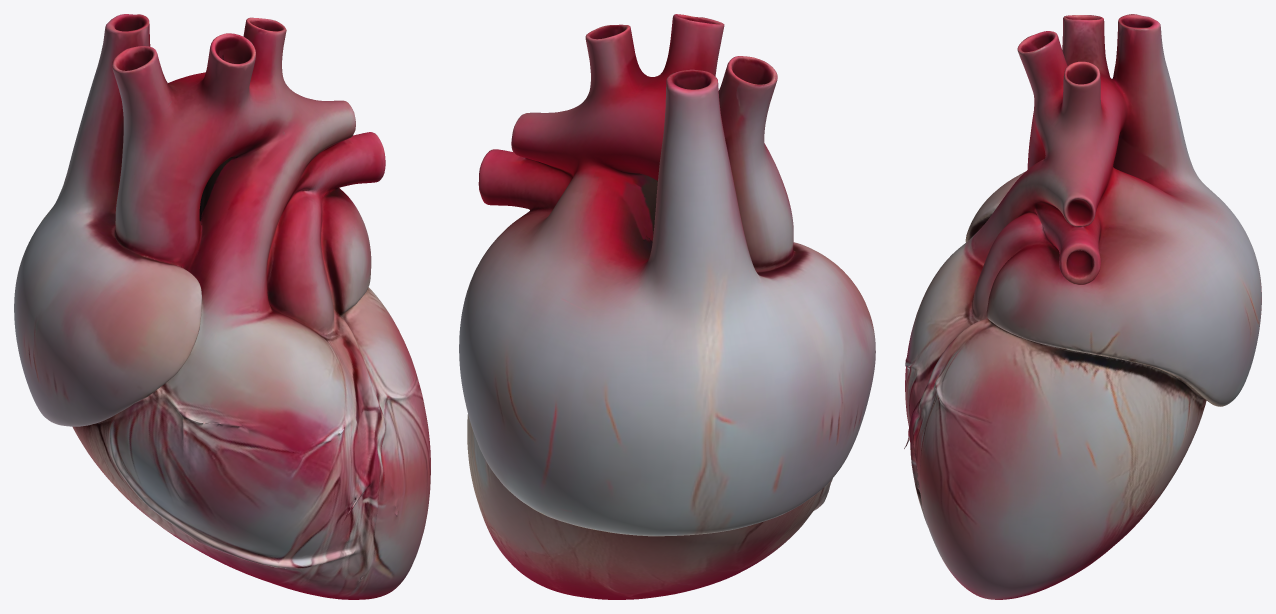
The model's file is heart_systole.glb.
3 views of the same model, side by side, from view 1: azimuth 30°, elevation 25°; view 2: azimuth 150°, elevation 25°; view 3: azimuth 270°, elevation 25° (orthographic). The views are drawn at different scales.
Visible parts, largest first — view 1: model; view 2: model; view 3: model.
Boxes of the visible parts, <box> form: model: <box>14,14,430,599</box>; model: <box>459,14,875,599</box>; model: <box>904,14,1261,599</box>.
Bounding box in the file's own units: 1.21 × 1.9 × 1.21.
Materials: 1 (1 with a texture image).
